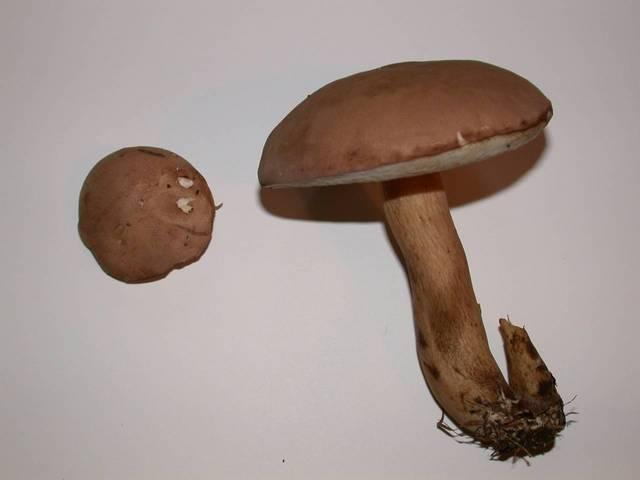Non-edible Mushroom: (256, 57, 575, 465), (76, 144, 222, 284)
